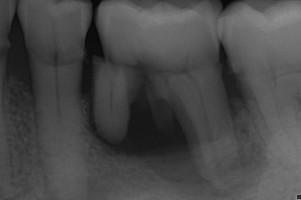Dental Caries: (82, 83, 269, 200)
